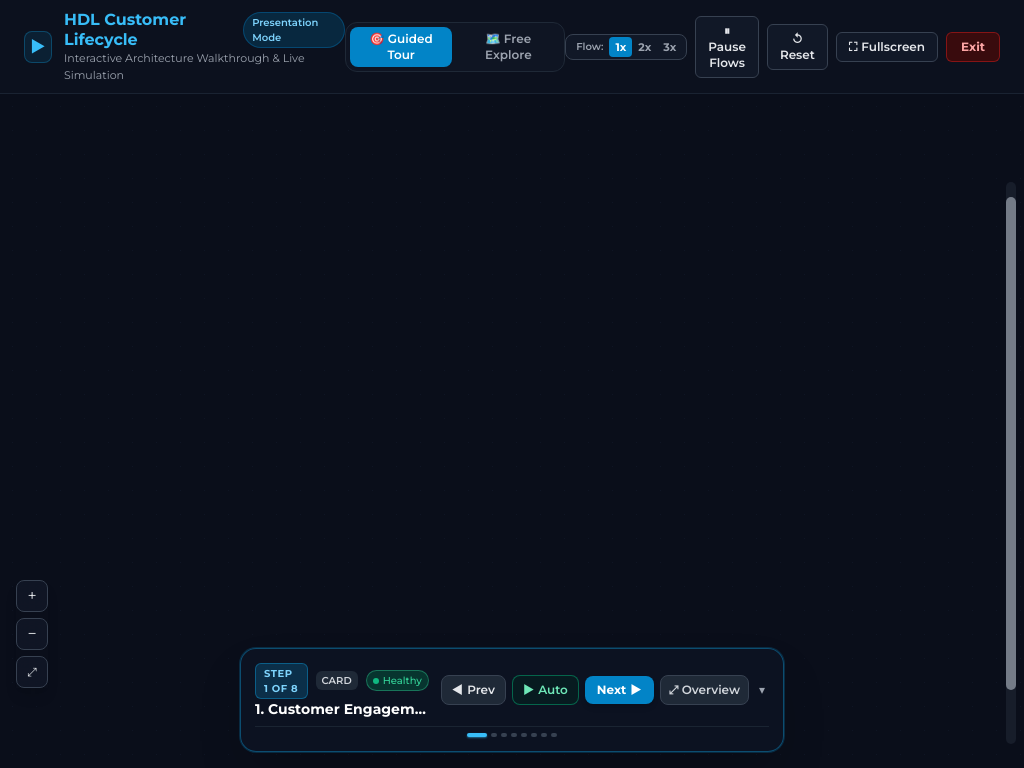
Test case: PresentMode › toggles auto-play walkthrough
Click the button titled "Play Auto Walkthrough". click: coordinates (545, 690)
box: [512,675,579,705]
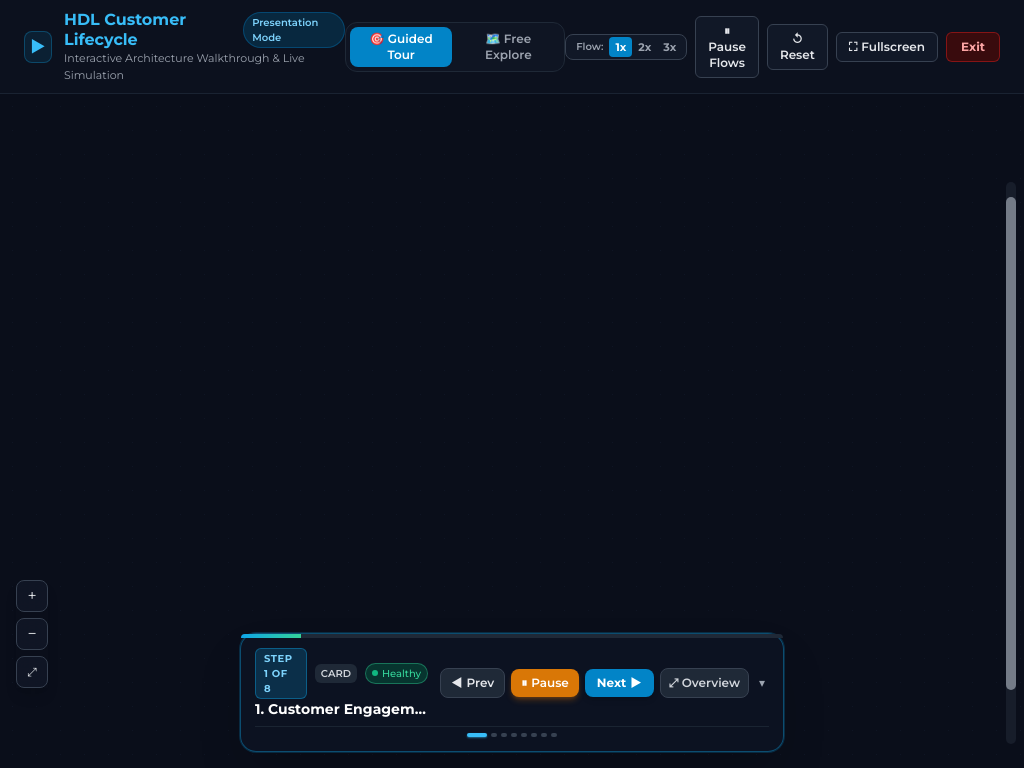
Now the button titled "Pause Auto Walkthrough" is shown, box [511,669,579,697]
